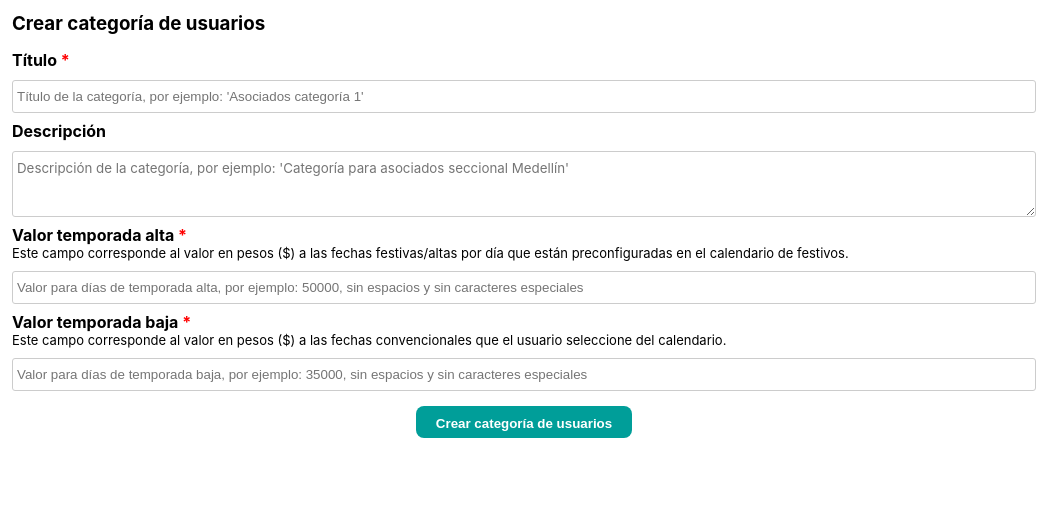
Test: CrearCategoria test › Debería fallar con dos campos obligatorios restantes
Type "Categoría de prueba" into the field named "title". click: (524, 96)
box: [12,80,1036,113]
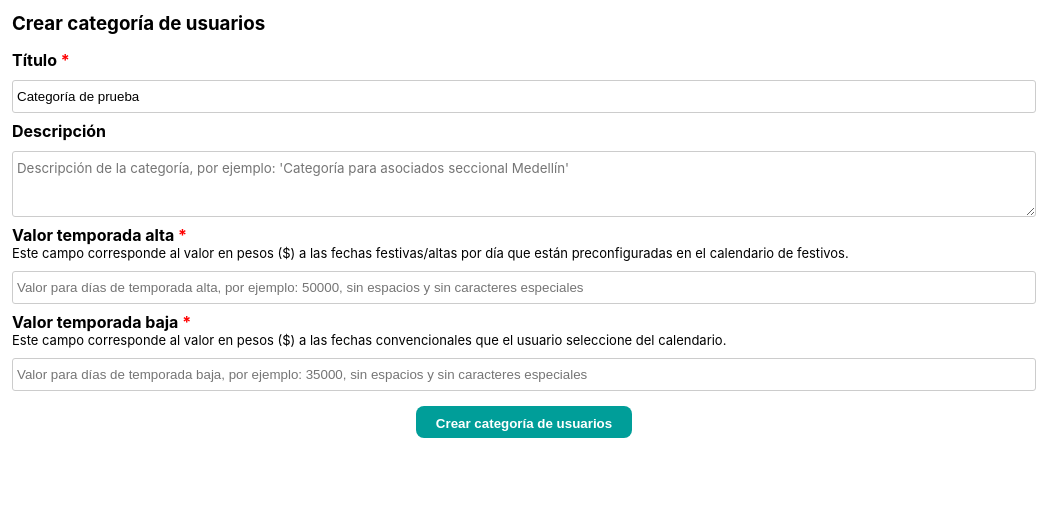
Click the submit button. click: (524, 422)
box: [416,406,632,438]
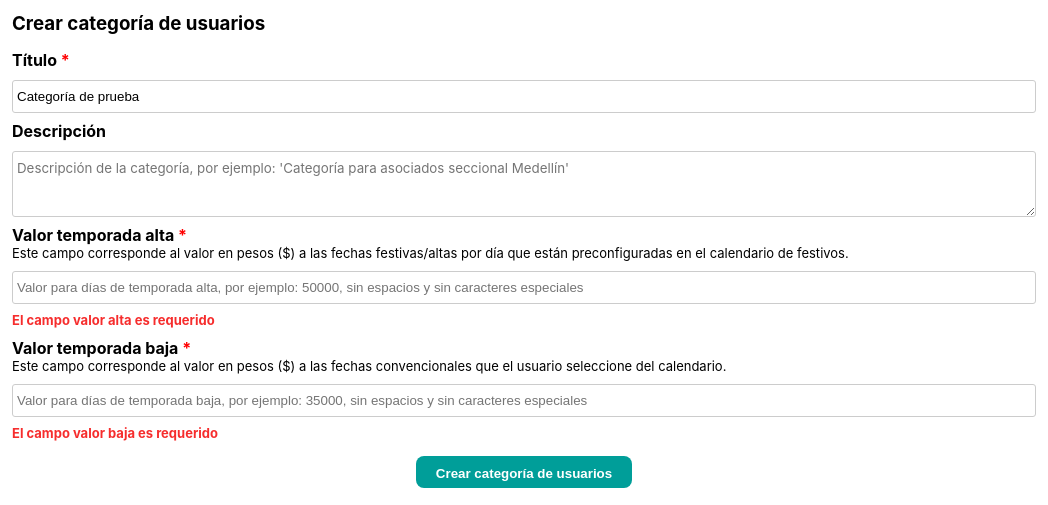
Now the text "El campo valor alta es requerido" is shown, box [12,312,215,328]
Now the text "El campo valor baja es requerido" is shown, box [12,425,218,441]
